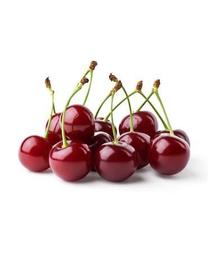cherry: (147, 133, 191, 176), (93, 140, 137, 182), (50, 139, 92, 182), (18, 135, 54, 172), (118, 111, 158, 144), (60, 105, 95, 141), (119, 132, 151, 169)
